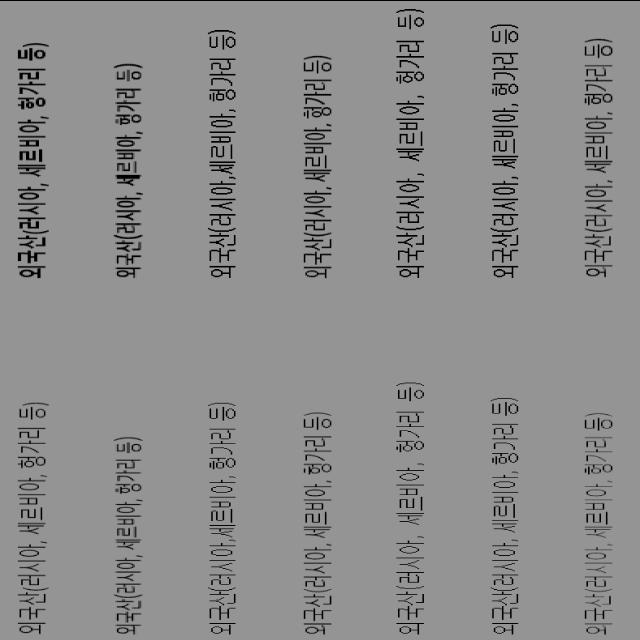bold: (384, 7, 434, 278), (194, 25, 244, 282), (5, 39, 56, 279), (290, 51, 342, 282), (101, 61, 156, 278), (570, 36, 618, 280), (482, 21, 526, 279)
normal: (11, 398, 61, 636), (288, 408, 340, 634), (482, 395, 526, 635), (574, 410, 618, 638), (104, 433, 152, 635), (392, 378, 428, 636), (204, 399, 242, 635)
